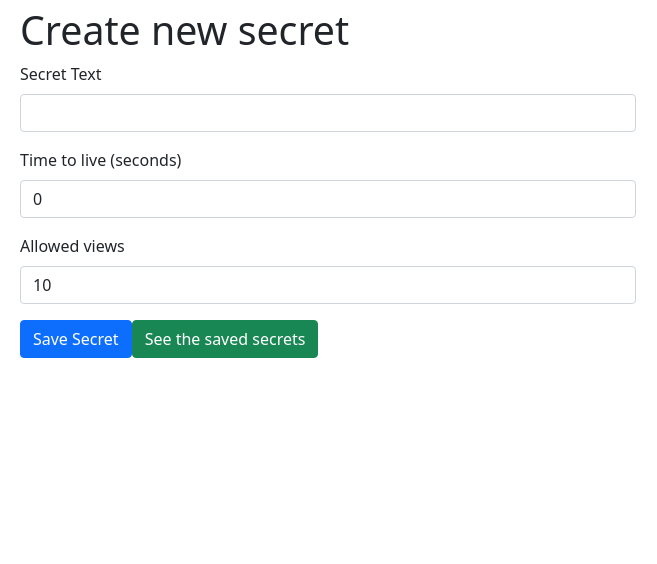
it: Secret Server App › Create Secret Page › get error when creating secret with invalid data
This screenshot has width=657, height=564.
Click the button "Save Secret". click: (76, 339)
box: [20,320,132,358]
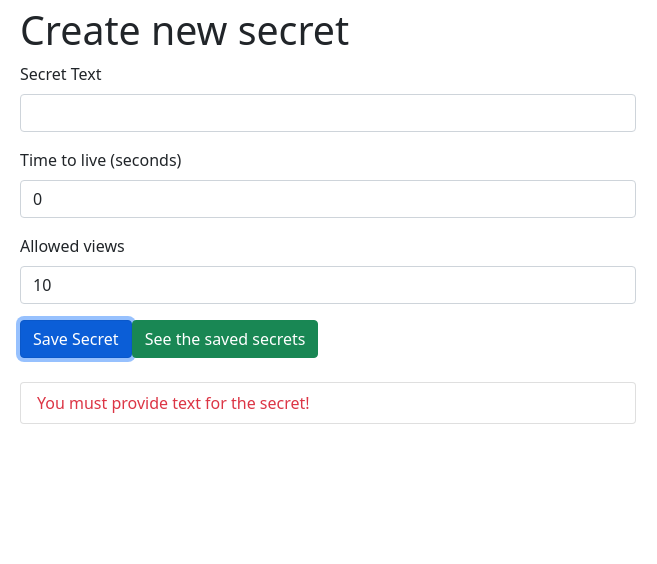
expect the number of lists is 1: met, box [20,382,636,424]
Replace the text in the number field with id "ttl" with "-1". click: (328, 199)
box: [20,180,636,218]
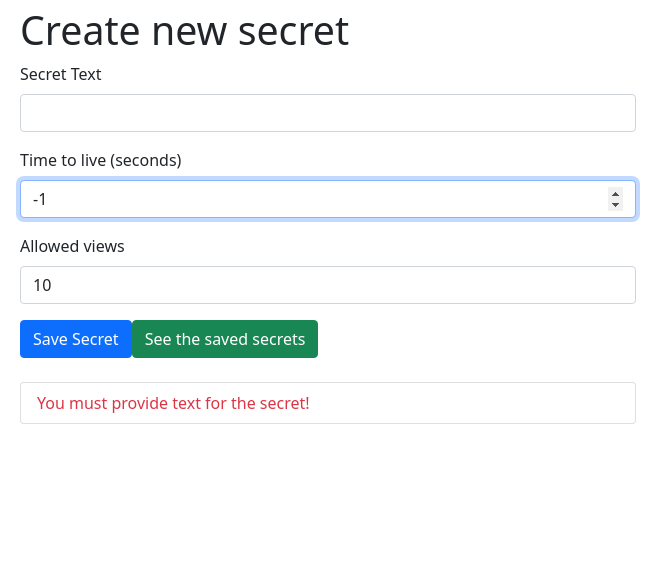
Replace the text in the number field with id "allowed-views" with "0". click: (328, 285)
box: [20,266,636,304]
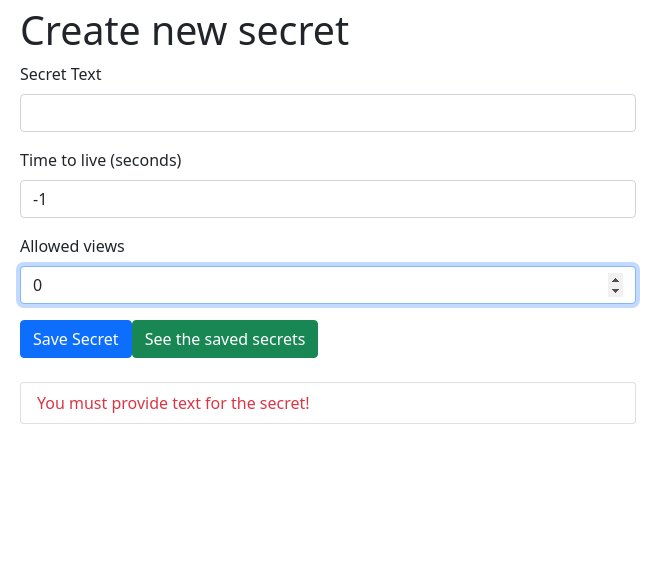
Click the button "Save Secret". click: (76, 339)
box: [20,320,132,358]
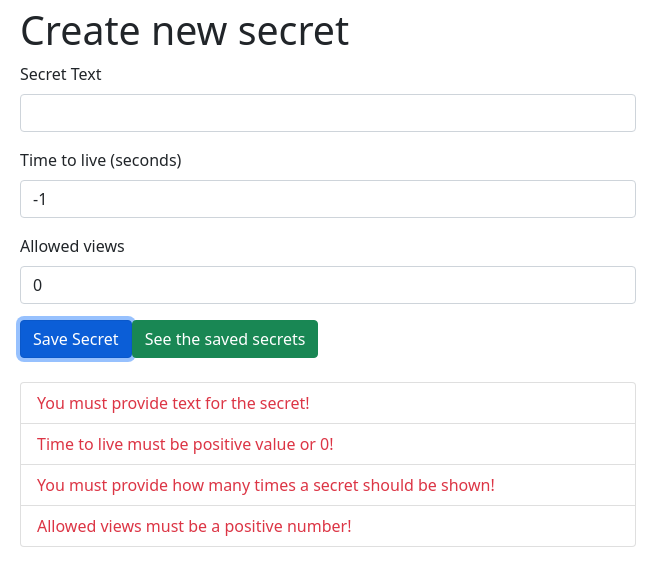
expect the number of list items is 4: met, box [20,382,636,424]; [20,424,636,465]; [20,465,636,506]; [20,506,636,547]
